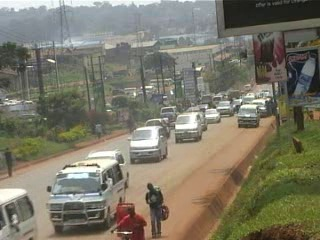Car: (122, 123, 170, 164), (84, 149, 132, 188), (171, 113, 204, 144), (142, 115, 169, 137), (186, 109, 209, 129), (213, 101, 237, 116), (199, 108, 221, 124), (196, 101, 211, 113)
